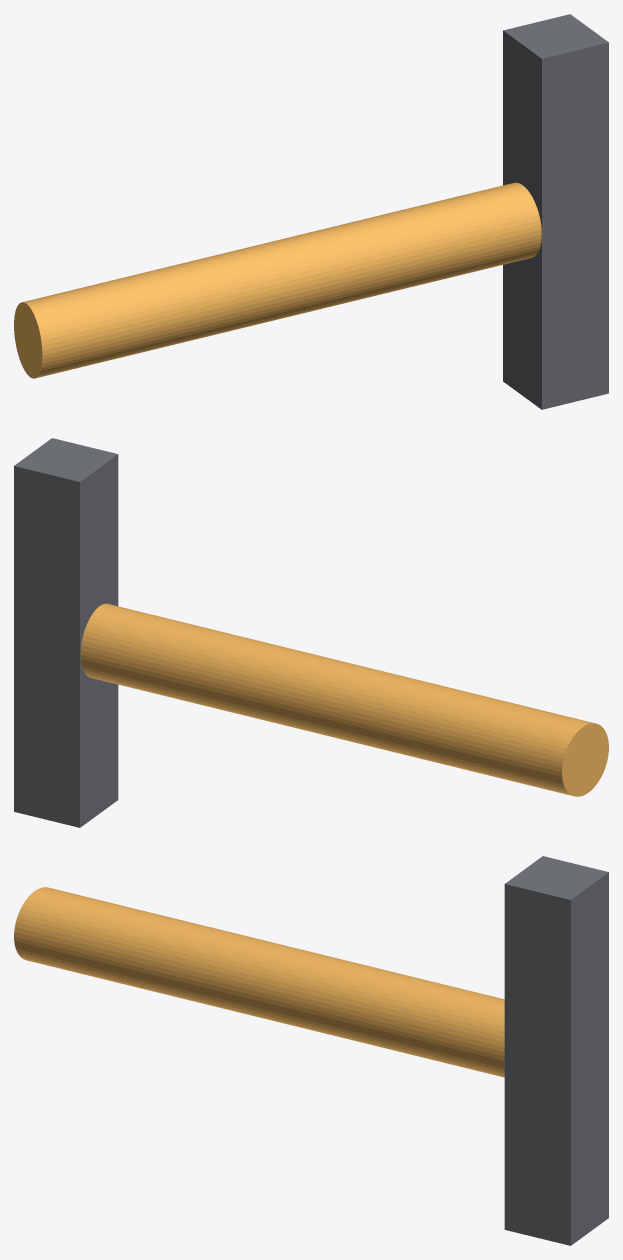
The model's file is hammer.fbx.
3 renders of one model, top to bottom at view 1: azimuth 30°, elevation 25°; view 2: azimuth 150°, elevation 25°; view 3: azimuth 330°, elevation 25°, orthographic.
Parts seen in each view (by area): view 1: group_0_16089887; view 2: group_0_16089887; view 3: group_0_16089887.
Part boxes in pixels (x1,y1,x2,y2): group_0_16089887: (14,14,608,409); group_0_16089887: (14,438,608,827); group_0_16089887: (14,856,608,1245).
Size of the model in its own units: 253 by 150 by 30.
